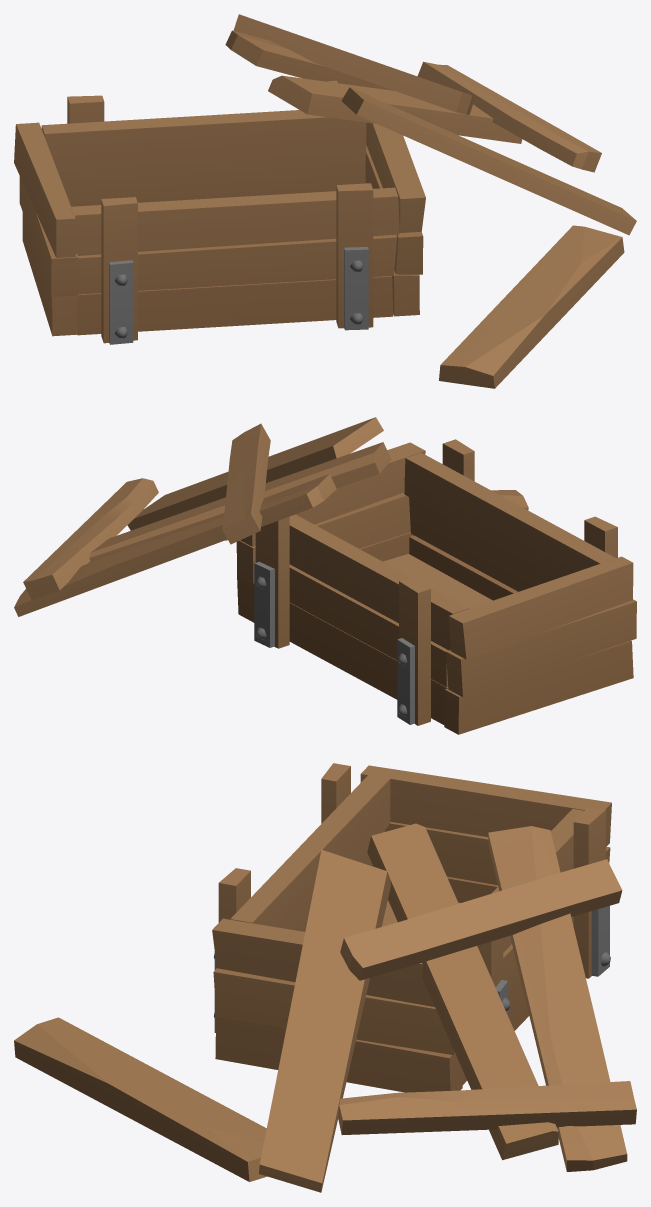
File: Box_Wood_Open_E.fbx
The picture shows the model from 3 angles, top to bottom: view 1: azimuth 30°, elevation 25°; view 2: azimuth 150°, elevation 25°; view 3: azimuth 270°, elevation 25°; orthographic projection. The views are drawn at different scales.
Visible parts, largest first — view 1: Box_Wood_Open_E; view 2: Box_Wood_Open_E; view 3: Box_Wood_Open_E.
Boxes of the visible parts, x1=… form: Box_Wood_Open_E: x1=14, y1=14, x2=636, y2=388; Box_Wood_Open_E: x1=14, y1=417, x2=636, y2=734; Box_Wood_Open_E: x1=14, y1=763, x2=636, y2=1192.
Size of the model in its own units: 214 by 71.76 by 187.
